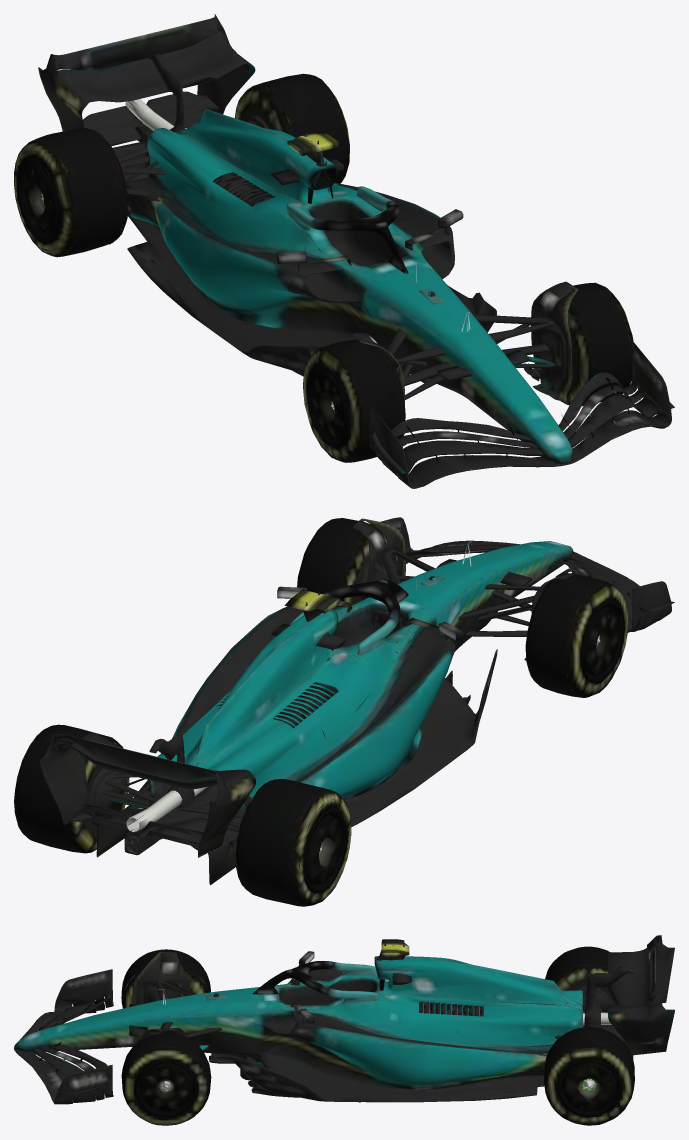
Rendered from f_amr23_lo.glb.
3 views of the same model, one above another, from view 1: azimuth 30°, elevation 25°; view 2: azimuth 150°, elevation 25°; view 3: azimuth 270°, elevation 25° (orthographic). The views are drawn at different scales.
Parts seen in each view (by area): view 1: Object_5, Object_6, Object_7, Object_8, Object_4, Object_9; view 2: Object_5, Object_6, Object_7, Object_8, Object_4, Object_9; view 3: Object_6, Object_7, Object_4, Object_8, Object_5, Object_9.
Boxes of the visible parts, x1,y1,x2,y2 form: Object_5: (113,54,578,463); Object_6: (14,54,572,463); Object_7: (14,128,633,462); Object_8: (38,14,674,473); Object_4: (180,109,671,488); Object_9: (276,133,463,273); Object_5: (96,518,563,885); Object_6: (14,541,572,899); Object_7: (97,518,628,906); Object_8: (39,527,674,858); Object_4: (186,517,671,767); Object_9: (277,579,463,655); Object_6: (14,958,634,1125); Object_7: (15,946,628,1125); Object_4: (14,956,582,1104); Object_8: (57,935,674,1096); Object_5: (54,939,634,1063); Object_9: (252,941,408,1024).
Size of the model in its own units: 1.39 by 0.825 by 3.68.
Materials: 1 (1 with a texture image).
